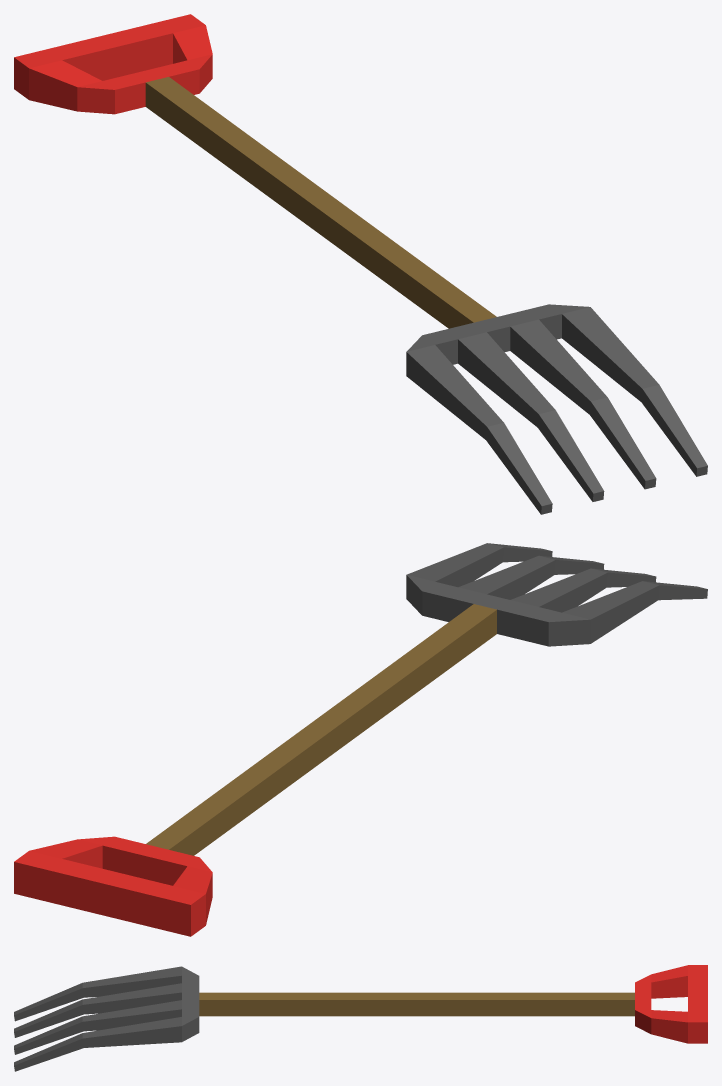
Rendered from fork.fbx.
3 views of the same model, one above another, from view 1: azimuth 30°, elevation 25°; view 2: azimuth 150°, elevation 25°; view 3: azimuth 270°, elevation 25° (orthographic). The views are drawn at different scales.
Visible parts, largest first — view 1: fork_LOD0; view 2: fork_LOD0; view 3: fork_LOD0.
Part boxes in pixels (<box>): fork_LOD0: <box>14,14,707,514</box>; fork_LOD0: <box>14,543,707,936</box>; fork_LOD0: <box>14,965,707,1071</box>.
Size of what is drawn, in the model's own units: 0.7282 by 0.2907 by 3.58.
